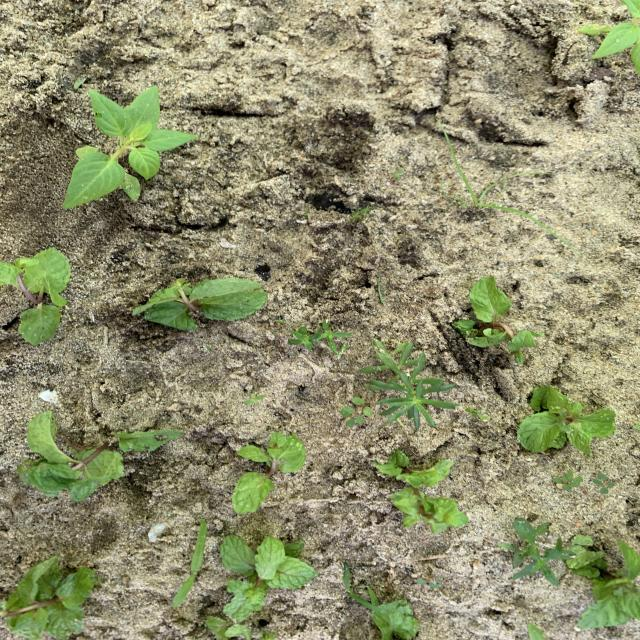crop: (18, 411, 166, 499), (222, 535, 316, 620), (1, 557, 98, 639), (374, 450, 467, 532), (455, 277, 542, 362), (135, 278, 266, 329), (517, 386, 615, 454), (1, 248, 70, 344), (566, 537, 639, 627), (233, 433, 305, 513), (206, 617, 255, 639), (529, 624, 547, 639)
weed: (440, 123, 577, 255), (64, 86, 195, 208), (361, 340, 456, 431), (344, 567, 417, 639), (578, 1, 639, 72), (500, 519, 559, 584), (173, 519, 207, 606), (318, 321, 352, 355), (341, 397, 374, 426), (288, 325, 319, 348), (554, 471, 583, 490), (592, 473, 615, 493), (417, 575, 442, 588), (465, 407, 488, 419), (351, 208, 369, 222), (244, 392, 266, 403), (390, 168, 404, 179), (74, 77, 87, 88)
